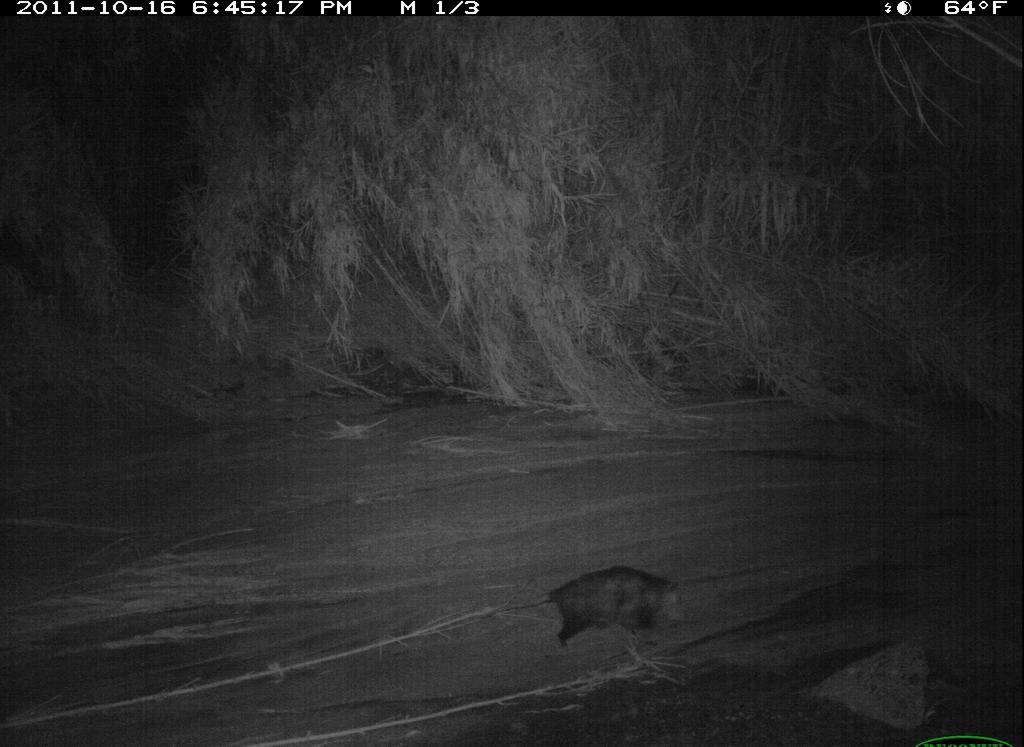opossum: (482, 560, 702, 653)
